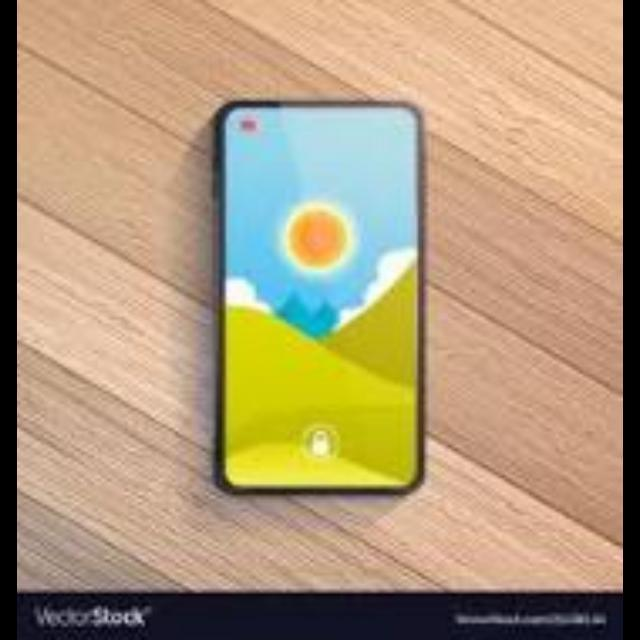Phone: (214, 98, 426, 494)
